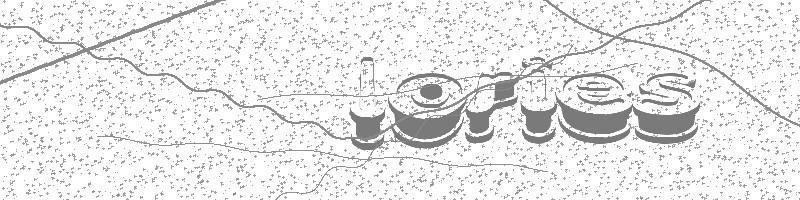e: (555, 71, 634, 145)
i: (518, 53, 558, 145)
l: (349, 53, 388, 151)
o: (387, 69, 466, 150)
r: (464, 68, 520, 145)
s: (631, 71, 700, 145)
